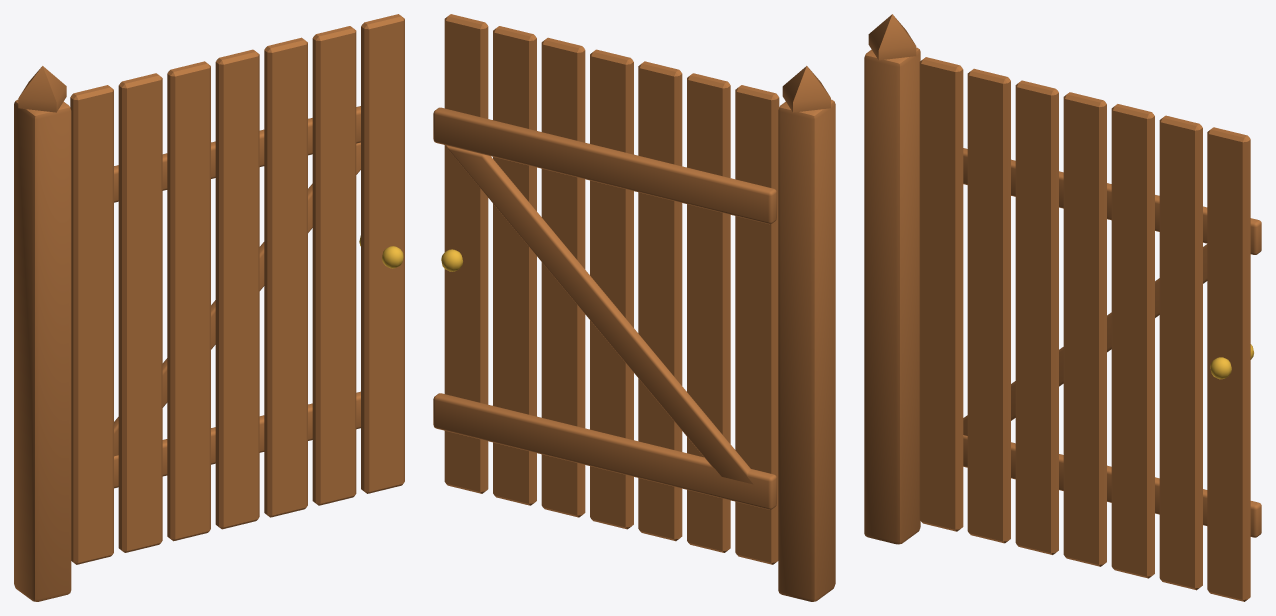
Rendered from portao_pedestre_ripada.glb.
3 renders of one model, left to right at view 1: azimuth 30°, elevation 25°; view 2: azimuth 150°, elevation 25°; view 3: azimuth 330°, elevation 25°, orthographic.
Visible parts, largest first — view 1: porta_1, portao_pedestre_ripada; view 2: porta_1, portao_pedestre_ripada; view 3: porta_1, portao_pedestre_ripada.
Part boxes in pixels (<box>): porta_1: <box>70,14,404,564</box>; portao_pedestre_ripada: <box>14,66,71,601</box>; porta_1: <box>433,14,779,564</box>; portao_pedestre_ripada: <box>778,66,835,601</box>; porta_1: <box>919,57,1261,601</box>; portao_pedestre_ripada: <box>864,14,920,544</box>.
Bounding box in the file's own units: 0.997 × 1.29 × 0.15.
1 material, 1 textured.
